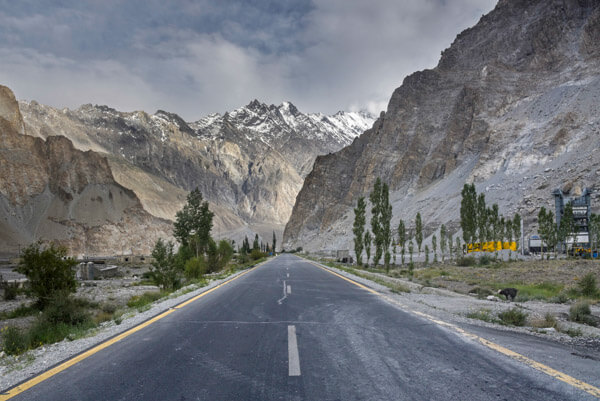straightRoad: (191, 241, 394, 401)
